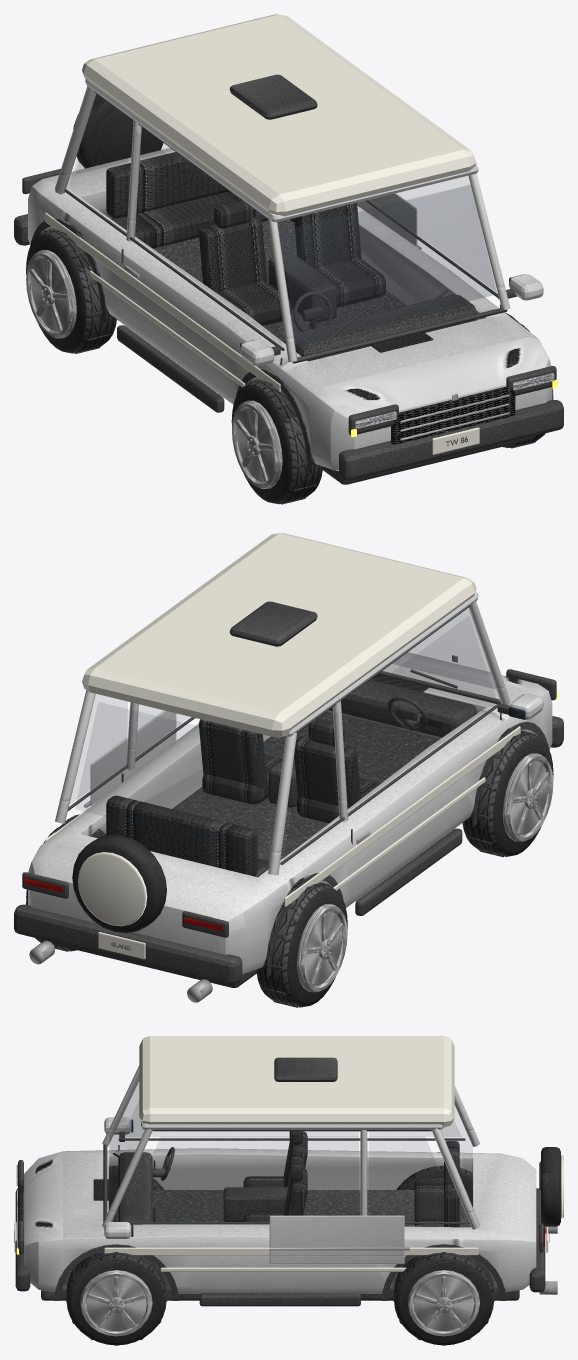
File: van.glb
The picture shows the model from 3 angles, top to bottom: view 1: azimuth 30°, elevation 25°; view 2: azimuth 150°, elevation 25°; view 3: azimuth 270°, elevation 25°; orthographic projection. The views are drawn at different scales.
Parts seen in each view (by area): view 1: WarmIvoryParts.003, GlassParts.003, BodyPaint_vanParts, TrimParts.003, SeatLeatherParts.003, BodyPaint_van_DoorParts, BodyPaint_van_HoodParts, DashboardVinylParts.003, PerforatedGrilleParts.003, TireParts.012, TireTreadRubberParts.012, TireTreadRubberParts.014 (+10 smaller); view 2: WarmIvoryParts.003, BodyPaint_vanParts, TrimParts.003, SeatLeatherParts.003, BodyPaint_van_DoorParts, GlassParts.003, DashboardVinylParts.003, TireParts.012, TireTreadRubberParts.014, TireTreadRubberParts.012, TireParts.015, TireParts.013 (+7 smaller); view 3: WarmIvoryParts.003, BodyPaint_vanParts, BodyPaint_van_DoorParts, TrimParts.003, SeatLeatherParts.003, DashboardVinylParts.003, BodyPaint_van_HoodParts, TireParts.014, TireParts.016, GlassParts.003, ForgedGraphiteParts.013, ForgedGraphiteParts.015 (+9 smaller).
Boxes of the visible parts, left/top/right/bottom form: WarmIvoryParts.003: left=45, top=14, right=479, bottom=454; GlassParts.003: left=75, top=102, right=496, bottom=342; BodyPaint_vanParts: left=32, top=86, right=548, bottom=471; TrimParts.003: left=14, top=74, right=563, bottom=484; SeatLeatherParts.003: left=106, top=152, right=385, bottom=325; BodyPaint_van_DoorParts: left=28, top=186, right=552, bottom=470; BodyPaint_van_HoodParts: left=314, top=337, right=548, bottom=417; DashboardVinylParts.003: left=268, top=253, right=476, bottom=361; PerforatedGrilleParts.003: left=391, top=386, right=515, bottom=444; TireParts.012: left=73, top=94, right=163, bottom=168; TireTreadRubberParts.012: left=244, top=376, right=323, bottom=504; TireTreadRubberParts.014: left=37, top=225, right=116, bottom=353; WarmIvoryParts.003: left=45, top=533, right=520, bottom=959; BodyPaint_vanParts: left=31, top=601, right=543, bottom=974; TrimParts.003: left=14, top=601, right=563, bottom=987; SeatLeatherParts.003: left=106, top=718, right=380, bottom=877; BodyPaint_van_DoorParts: left=28, top=691, right=552, bottom=973; GlassParts.003: left=77, top=609, right=495, bottom=799; DashboardVinylParts.003: left=268, top=679, right=476, bottom=807; TireParts.012: left=72, top=834, right=166, bottom=932; TireTreadRubberParts.014: left=256, top=879, right=337, bottom=1007; TireTreadRubberParts.012: left=462, top=728, right=541, bottom=857; TireParts.015: left=287, top=888, right=347, bottom=1006; TireParts.013: left=492, top=737, right=553, bottom=855; WarmIvoryParts.003: left=14, top=1036, right=563, bottom=1271; BodyPaint_vanParts: left=24, top=1065, right=536, bottom=1289; BodyPaint_van_DoorParts: left=24, top=1153, right=536, bottom=1293; TrimParts.003: left=14, top=1057, right=549, bottom=1306; SeatLeatherParts.003: left=243, top=1131, right=459, bottom=1227; DashboardVinylParts.003: left=118, top=1147, right=287, bottom=1224; BodyPaint_van_HoodParts: left=24, top=1151, right=62, bottom=1244; TireParts.014: left=68, top=1258, right=164, bottom=1345; TireParts.016: left=395, top=1258, right=492, bottom=1345; GlassParts.003: left=109, top=1074, right=461, bottom=1207; ForgedGraphiteParts.013: left=80, top=1270, right=152, bottom=1331; ForgedGraphiteParts.015: left=408, top=1270, right=479, bottom=1331.
Size of the model in its own units: 2.4 by 2.28 by 4.94.
20 materials, 18 textured.
